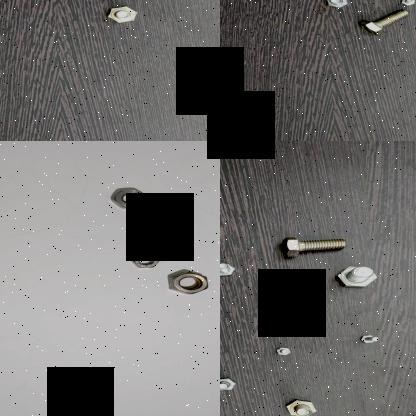Bolts: (282, 235, 346, 259), (356, 8, 410, 36), (330, 262, 378, 290), (104, 3, 142, 24), (282, 395, 320, 416), (220, 375, 240, 391), (220, 262, 240, 278), (357, 334, 380, 346), (321, 0, 351, 9)
NUTS: (162, 267, 216, 297), (108, 185, 152, 210), (130, 252, 158, 274)
